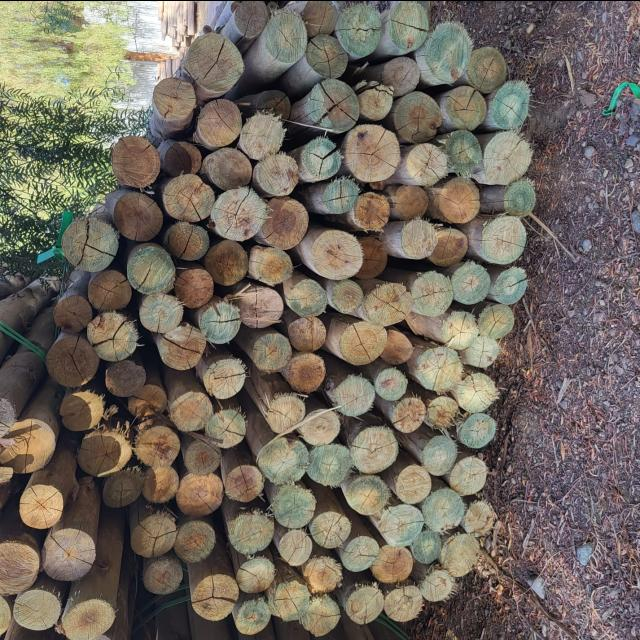package: (47, 0, 530, 640)
